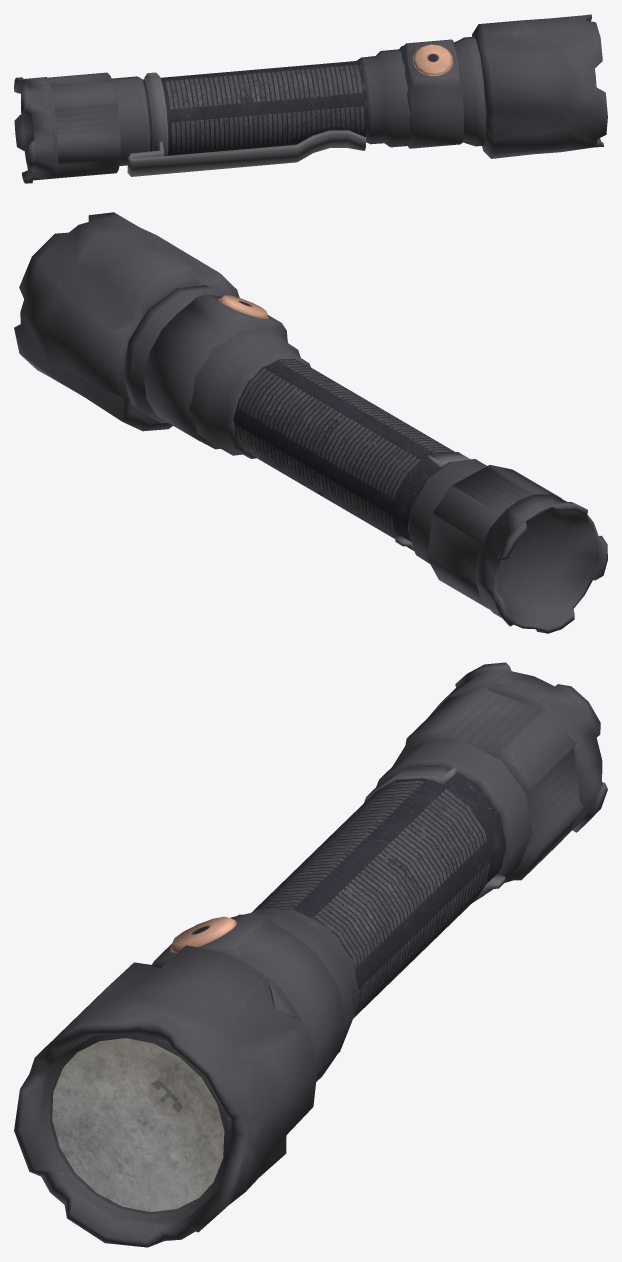
The model's file is flashlight.glb.
3 renders of one model, top to bottom at view 1: azimuth 30°, elevation 25°; view 2: azimuth 150°, elevation 25°; view 3: azimuth 270°, elevation 25°, orthographic. The views are drawn at different scales.
Visible parts, largest first — view 1: SM_Flashlight_V01_0; view 2: SM_Flashlight_V01_0; view 3: SM_Flashlight_V01_0.
Boxes of the visible parts, x1,y1,x2,y2 form: SM_Flashlight_V01_0: (14, 14, 607, 183); SM_Flashlight_V01_0: (14, 212, 607, 633); SM_Flashlight_V01_0: (14, 662, 607, 1247).
Size of the model in its own units: 0.1303 by 0.0306 by 0.0734.
1 material, 1 textured.
